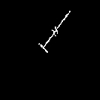treble_crochet: (41, 11, 69, 51)
